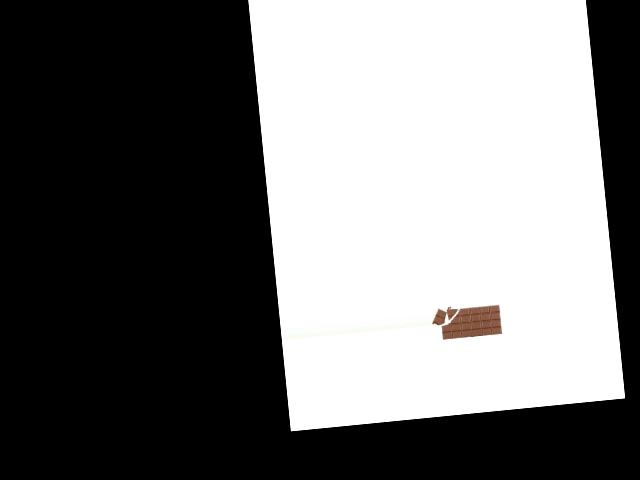chocolate: (429, 295, 503, 345)
